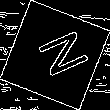N_SW: (23, 26, 87, 84)
